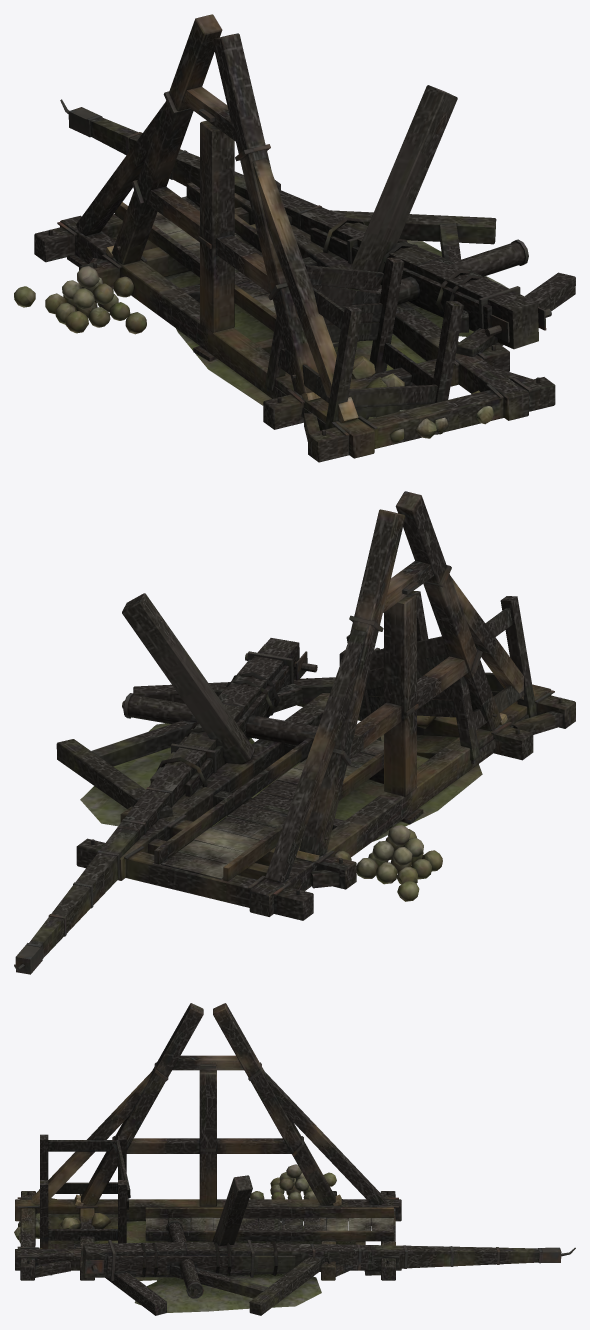
Rendered from trebuchet_burnt.glb.
The picture shows the model from 3 angles, top to bottom: view 1: azimuth 30°, elevation 25°; view 2: azimuth 150°, elevation 25°; view 3: azimuth 270°, elevation 25°; orthographic projection. The views are drawn at different scales.
Parts seen in each view (by area): view 1: body_LOD0; view 2: body_LOD0; view 3: body_LOD0.
Boxes of the visible parts, x1,y1,x2,y2 form: body_LOD0: (14,14,575,462); body_LOD0: (14,491,575,974); body_LOD0: (14,1003,575,1315).
Size of what is drawn, in the model's own units: 8.34 by 6.25 by 14.38.
1 material, 1 textured.
